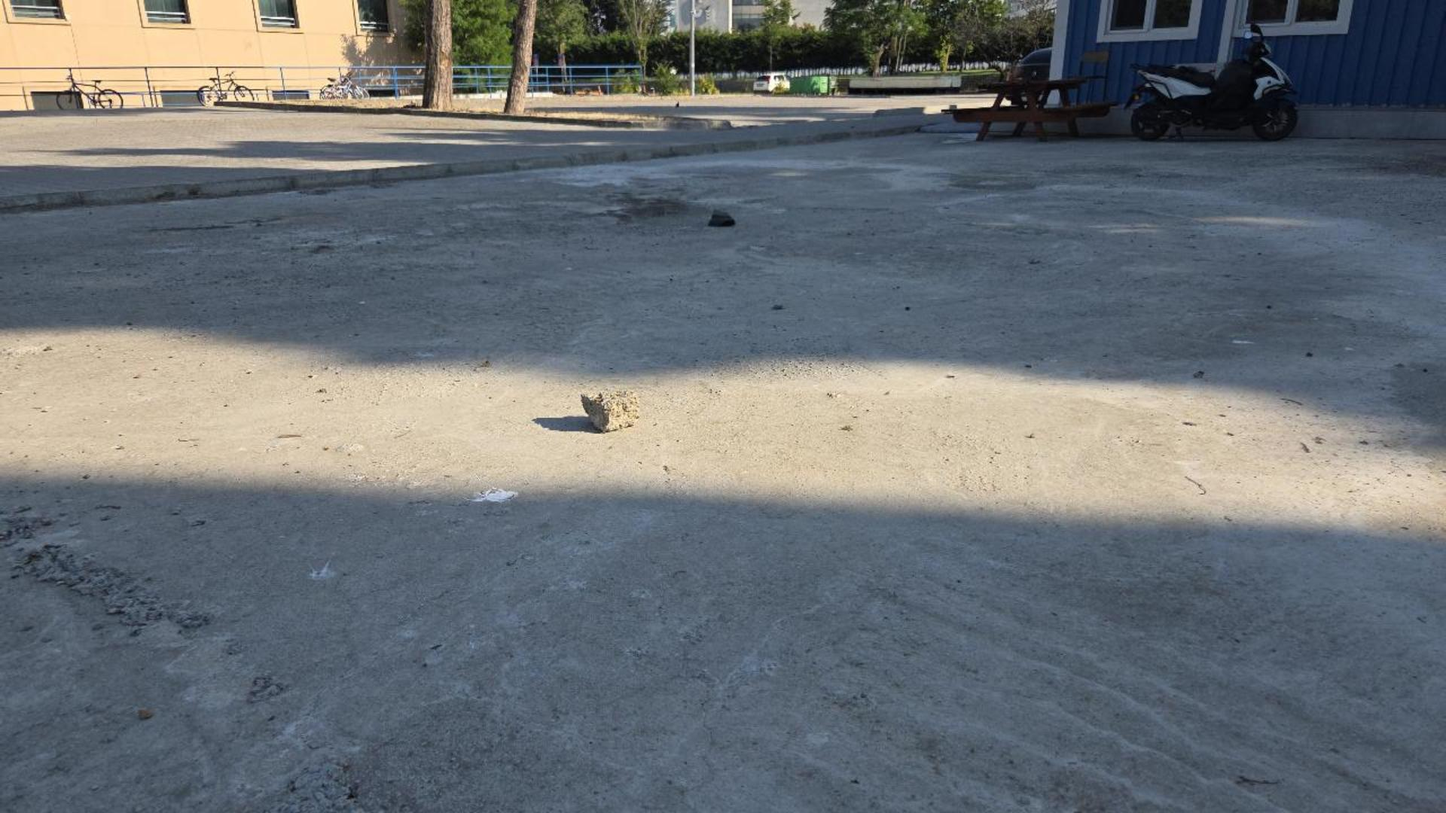rock: (581, 390, 638, 431), (707, 211, 735, 227)
